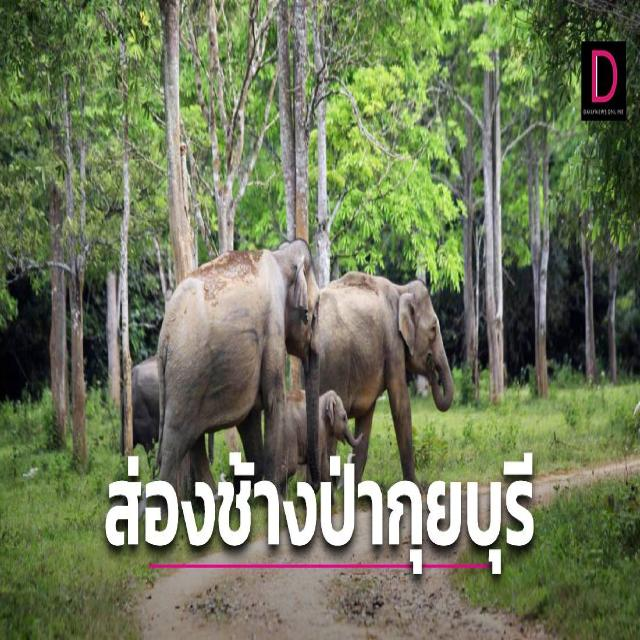Elephant: (144, 244, 329, 469), (310, 268, 455, 464), (269, 392, 369, 474)
